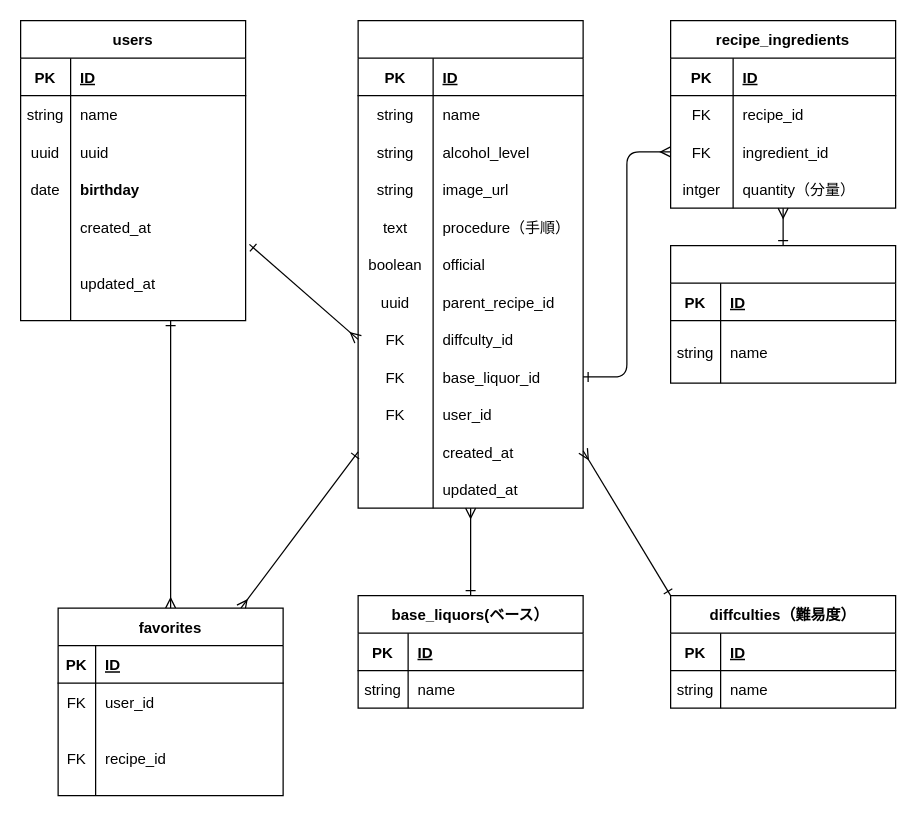
Image size: 916x816. Some labels were removed from this diagram. The shapes that lost their labels are listed below. From the top down, each one's box as (x1, y1, x2, y2) in pixels, then its label:
(357, 19, 583, 508): recipes
(669, 244, 896, 383): ingredients（材料）
